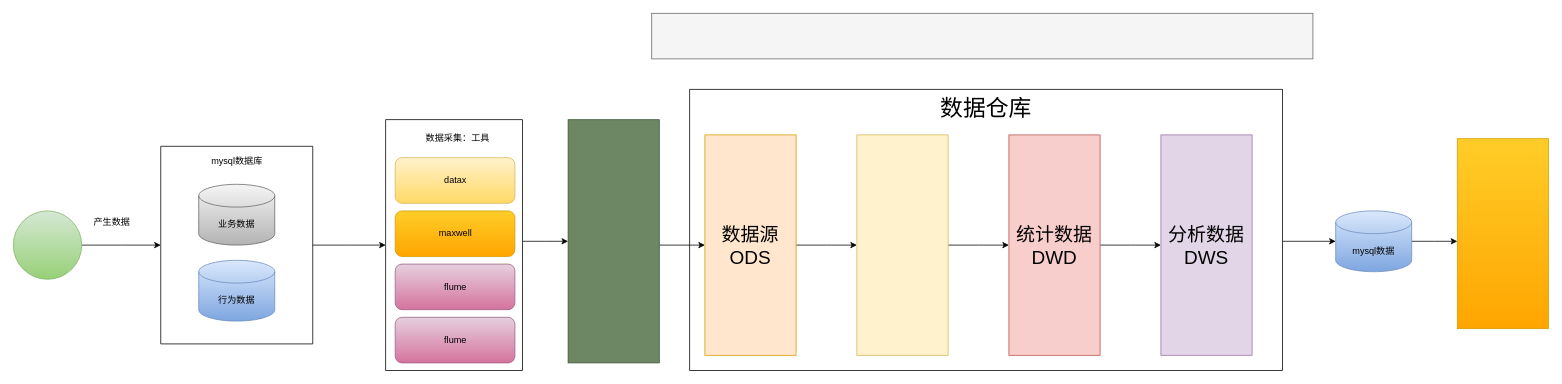
Some shapes in this 1562 by 384 pixel diagram are drawn without their labels. The centre of each missing label's shape, as x and y in pixels:
"hdfs" belongs at (613,241).
"加工数据 DWS" belongs at (902,244).
"数据可视化" belongs at (1502,233).
"数据流转过程" belongs at (982,36).
"用户" belongs at (47,244).
